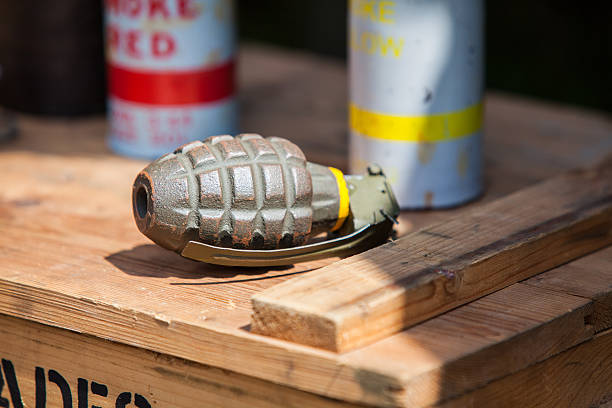e1: (135, 134, 401, 265)
